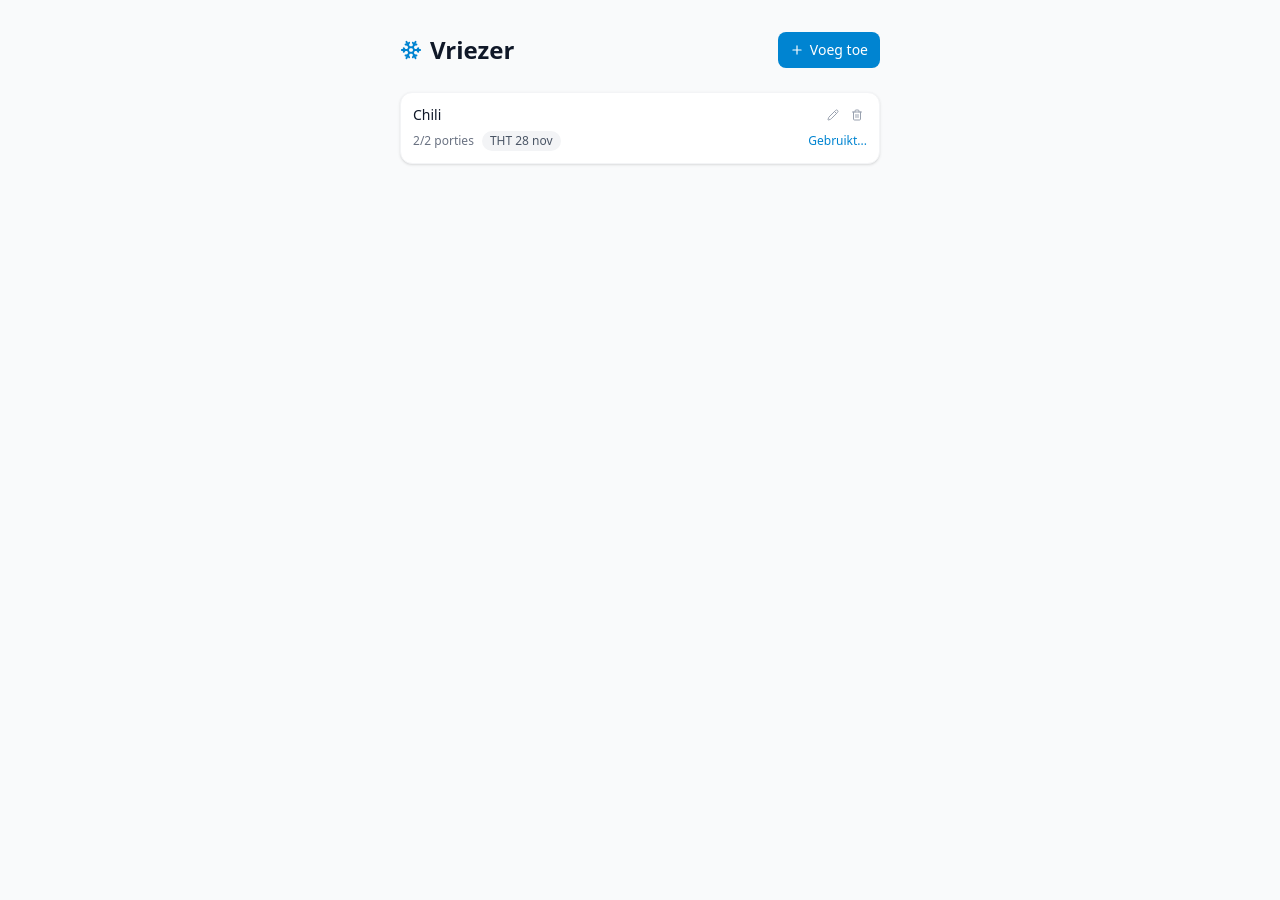
Test: Vriezer › consuming all remaining portions removes the item from the list
Expected: the link "Chili" is shown, [413, 105, 441, 125]
Click the button "Gebruikt...". click: [838, 141]
box: [808, 133, 867, 149]
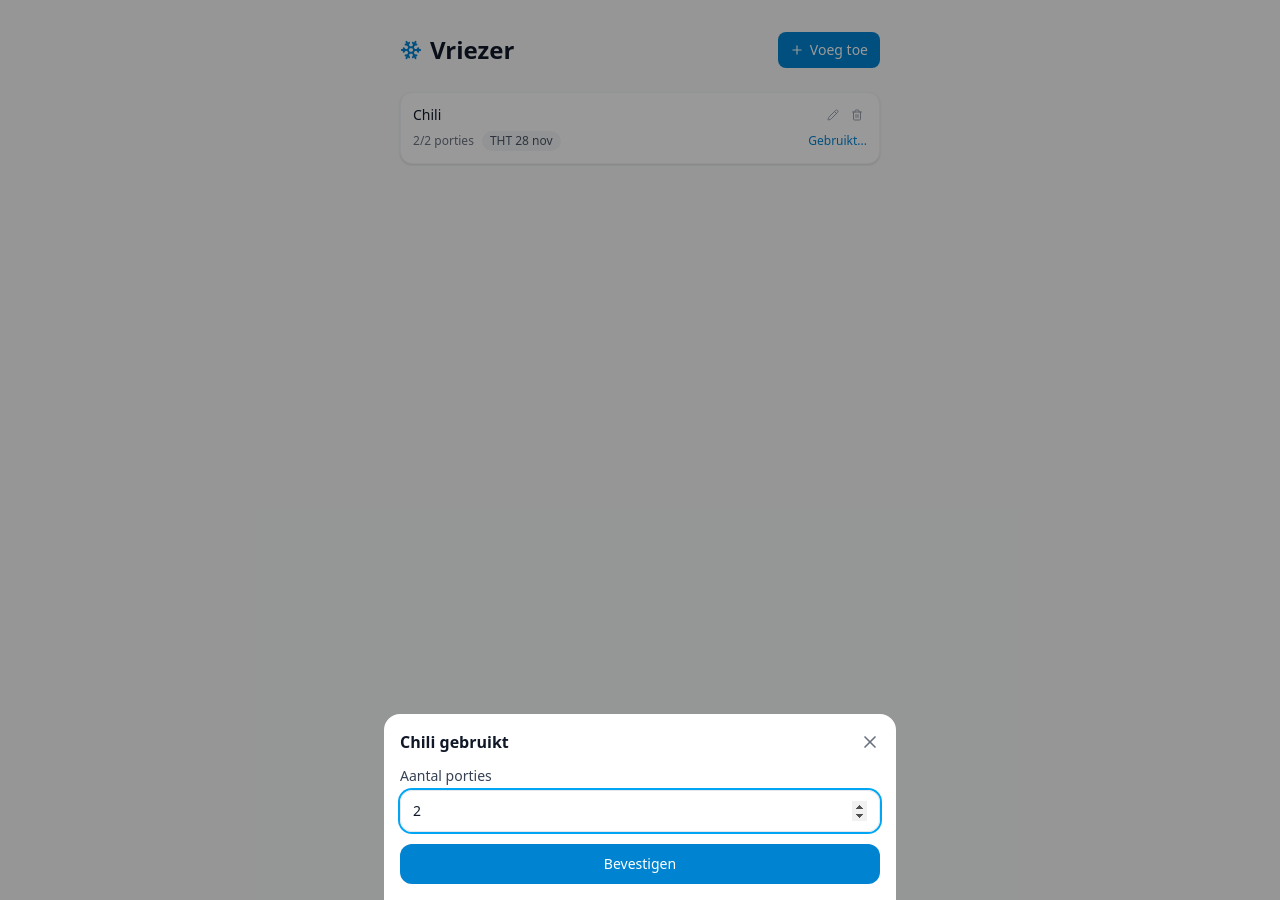
Click the button "Bevestigen". click: [640, 864]
box: [400, 844, 880, 884]
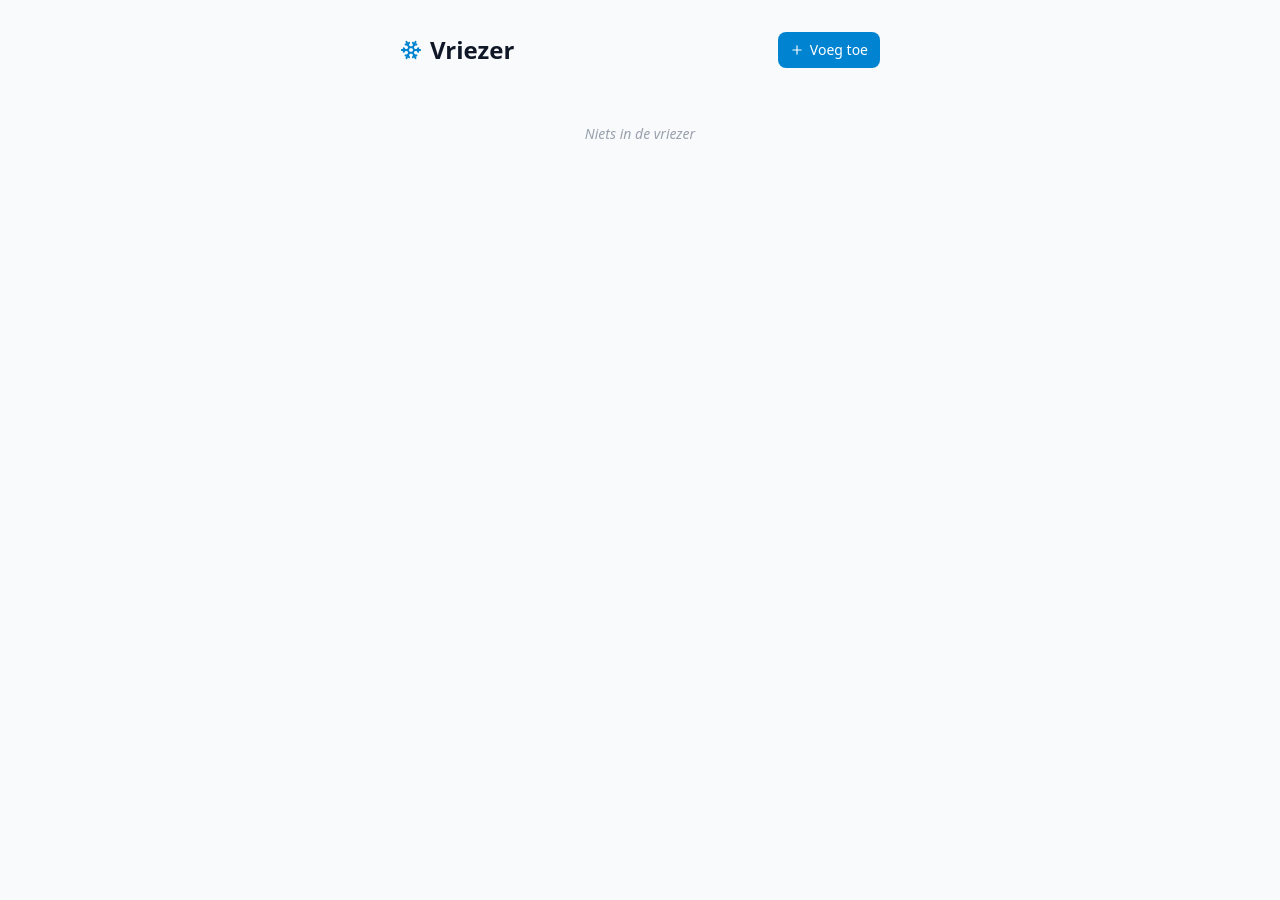
Expected: the link "Chili" is gone
